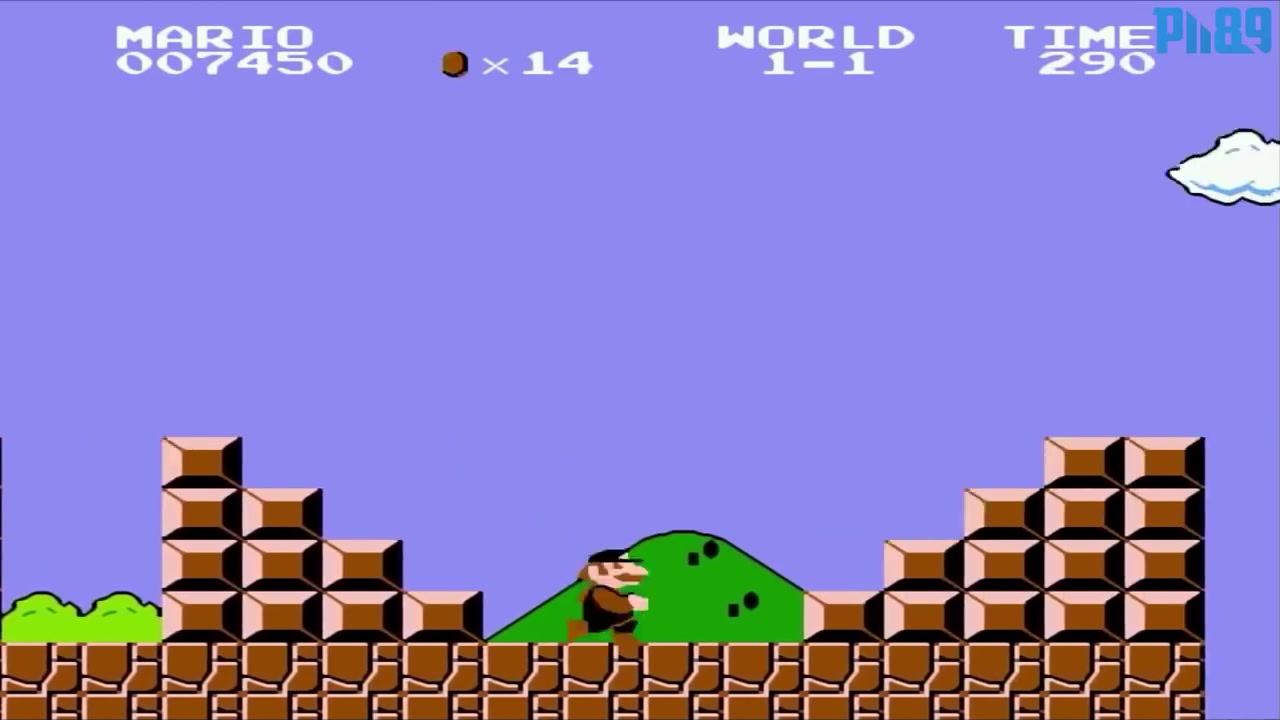mario: (560, 536, 649, 649)
